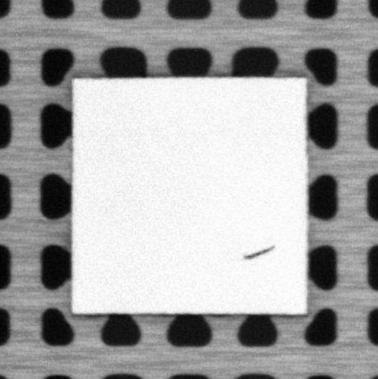DIE_INK: (244, 243, 274, 261)
